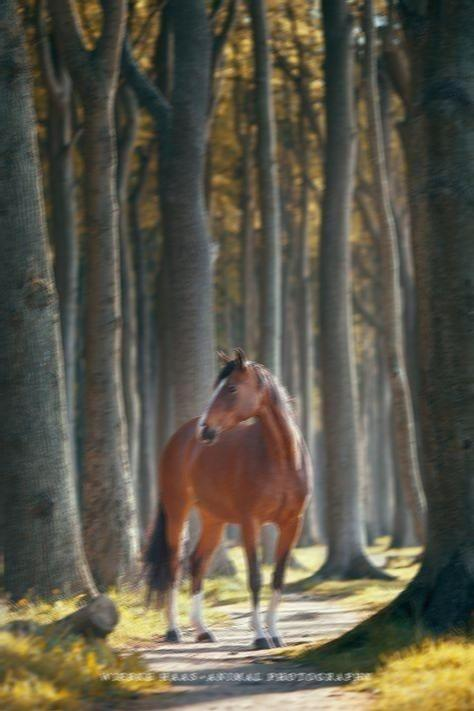horse: (134, 345, 312, 649)
